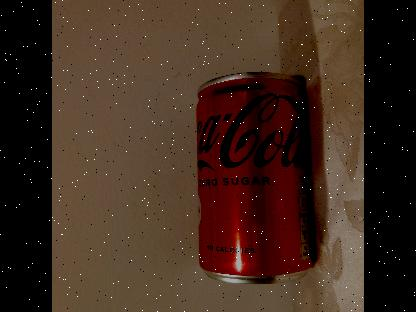Can: (195, 70, 314, 284)
